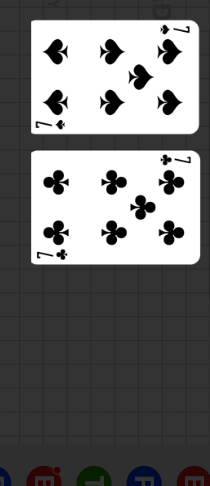7C: (35, 248, 69, 263)
7S: (34, 118, 67, 132)
